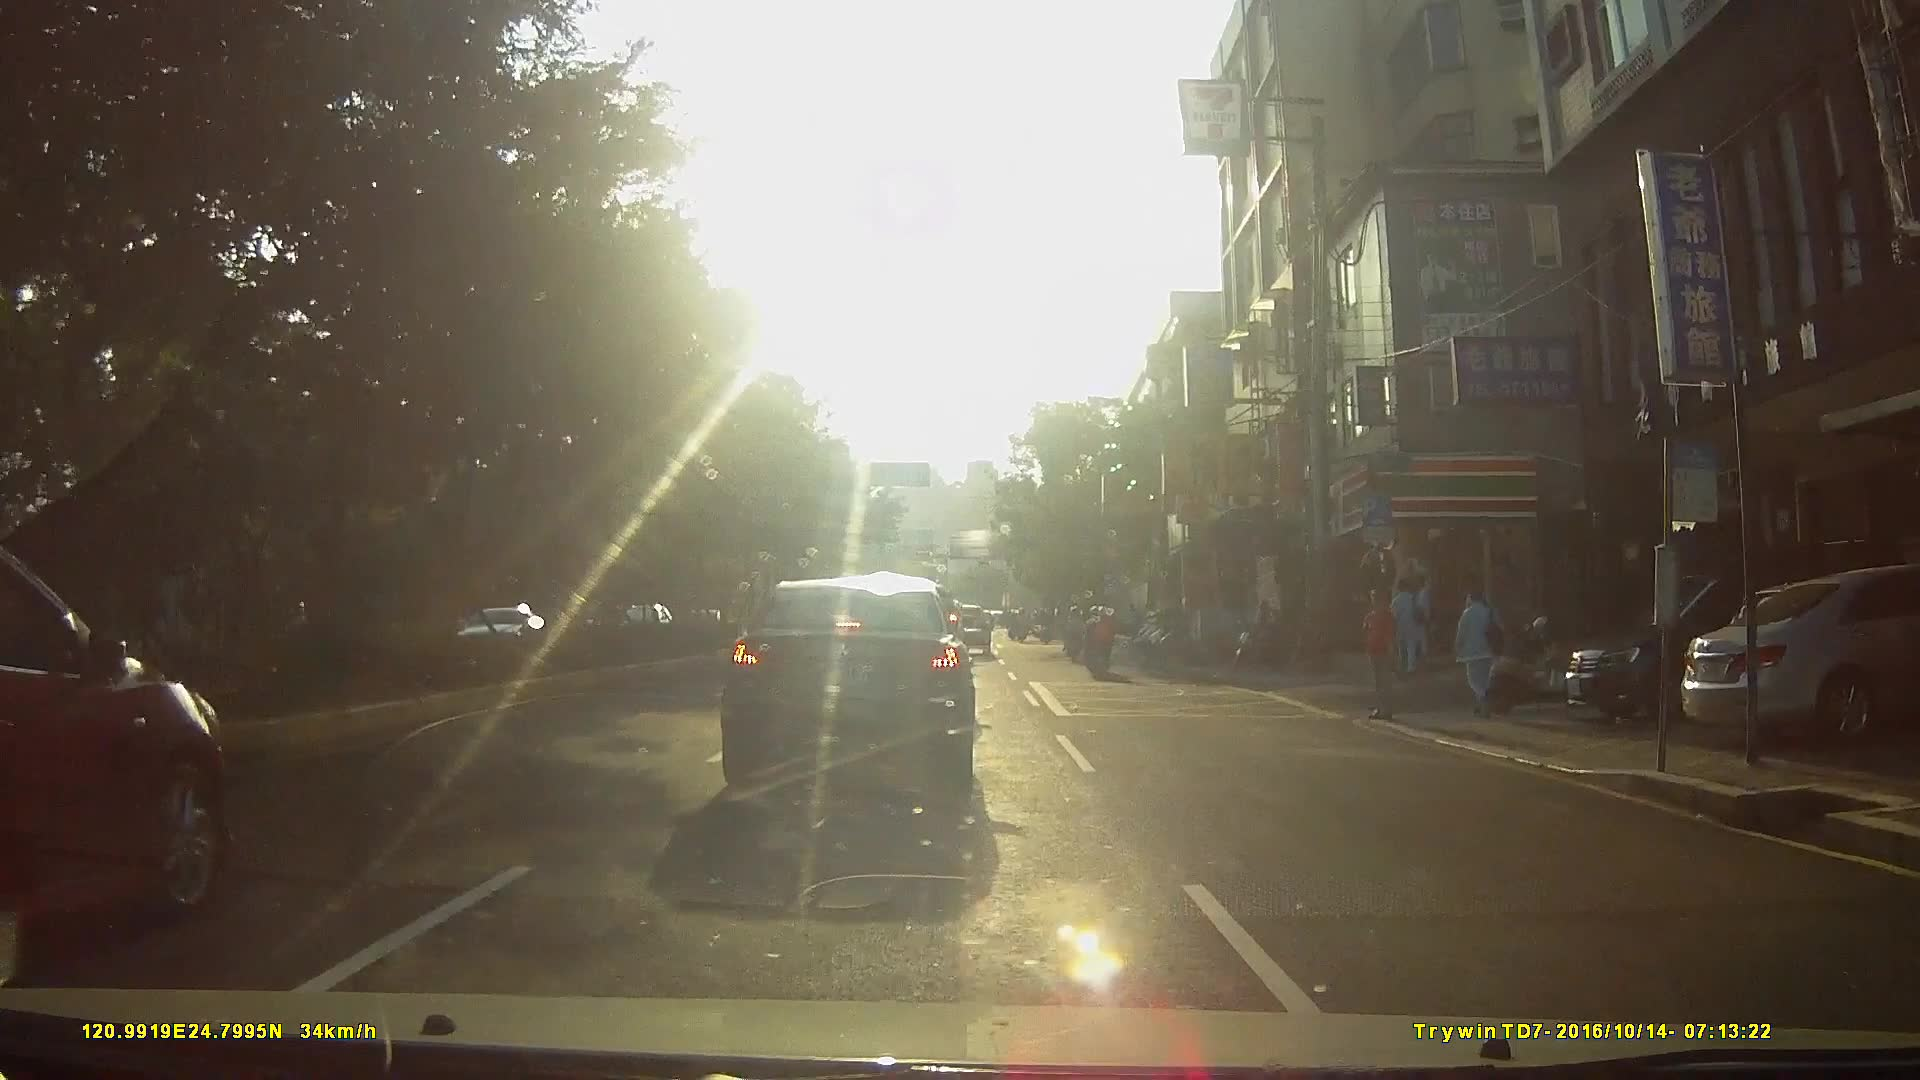pedestrian: (1448, 584, 1509, 718), (1365, 591, 1402, 729)
rider: (1079, 604, 1117, 681), (1062, 605, 1086, 659)
vehicle: (1, 535, 238, 965), (1556, 554, 1912, 731), (713, 574, 989, 764), (1669, 570, 1919, 751)
